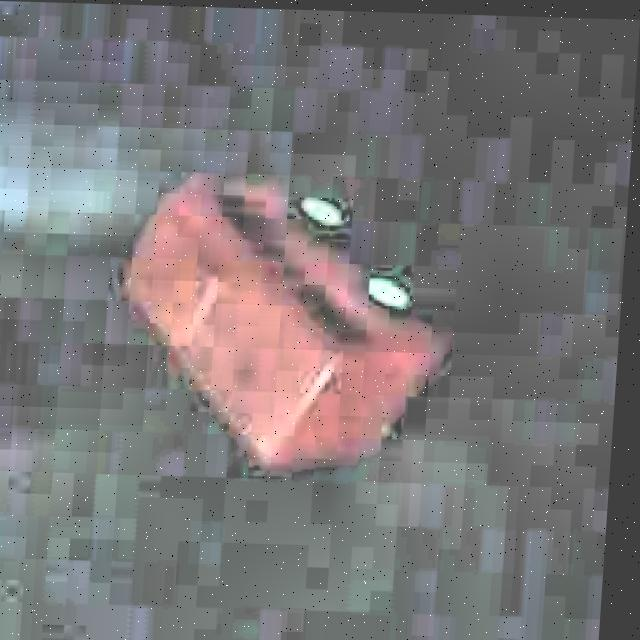bus: (96, 157, 466, 495)
